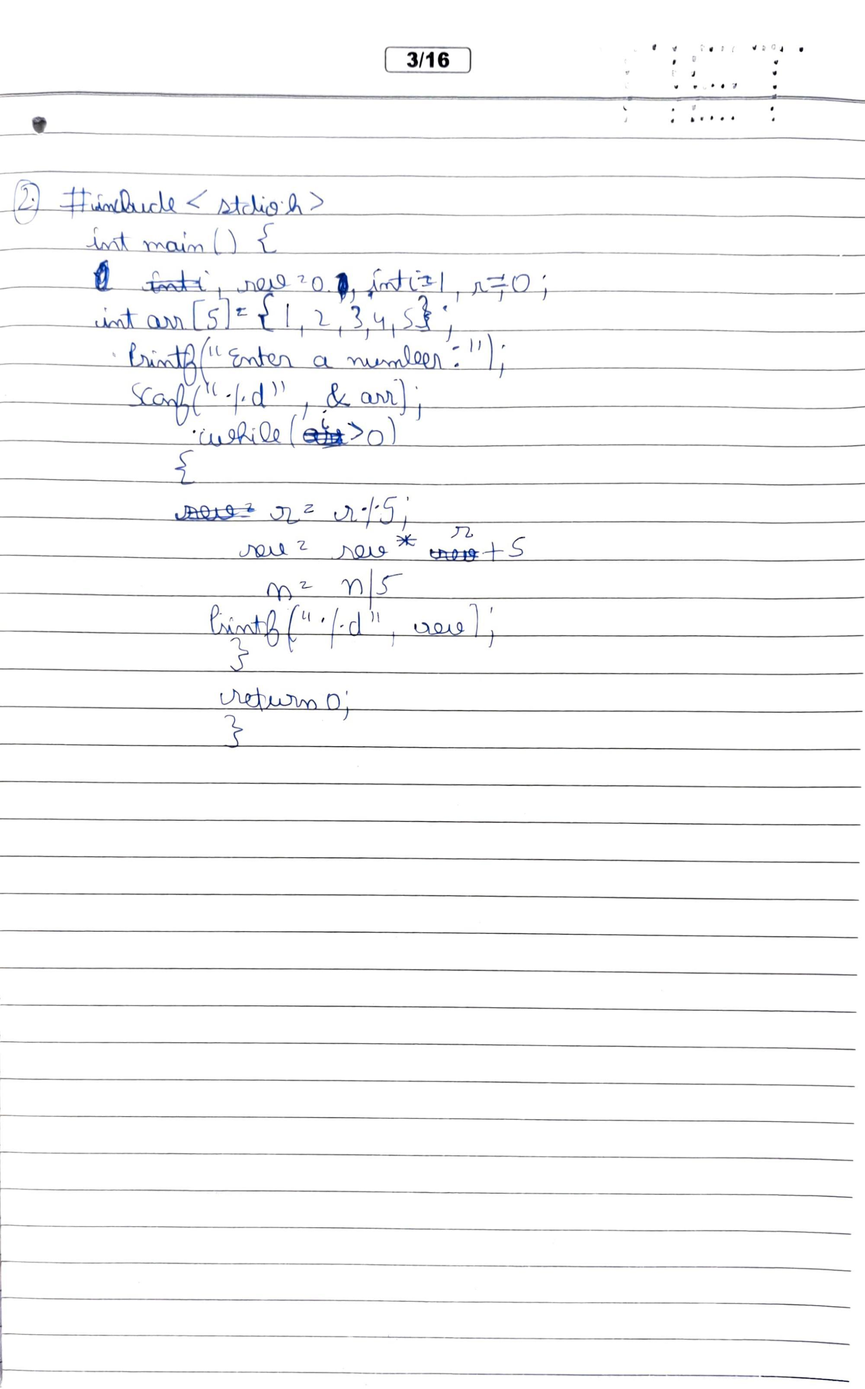cuttings: (141, 269, 208, 294), (174, 502, 258, 521), (303, 428, 349, 449), (92, 258, 113, 295), (429, 547, 479, 562), (335, 273, 351, 301)
